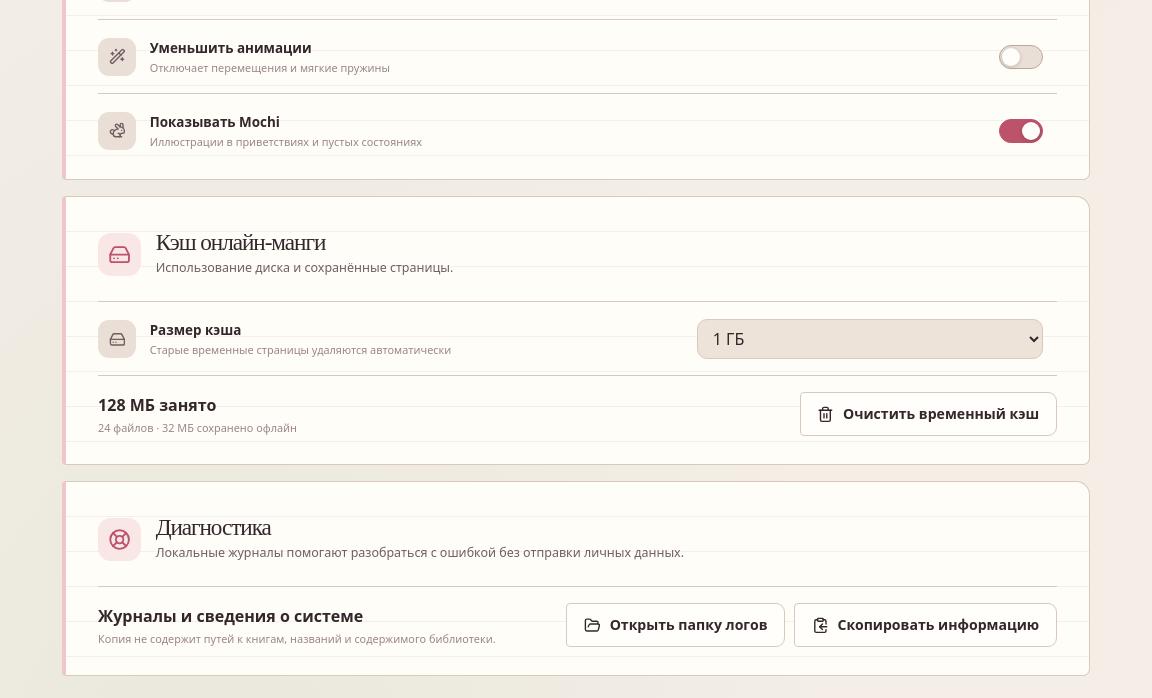
Test: settings page › configures the disk cache and clears only transient pages by default
(page scrolled)
Expected: the text "128 МБ занято" is shown, x1=98 y1=394 x2=216 y2=416
Select "2 ГБ" in the dropdown labelled "Размер кэша": (870, 339) x1=697 y1=319 x2=1043 y2=359
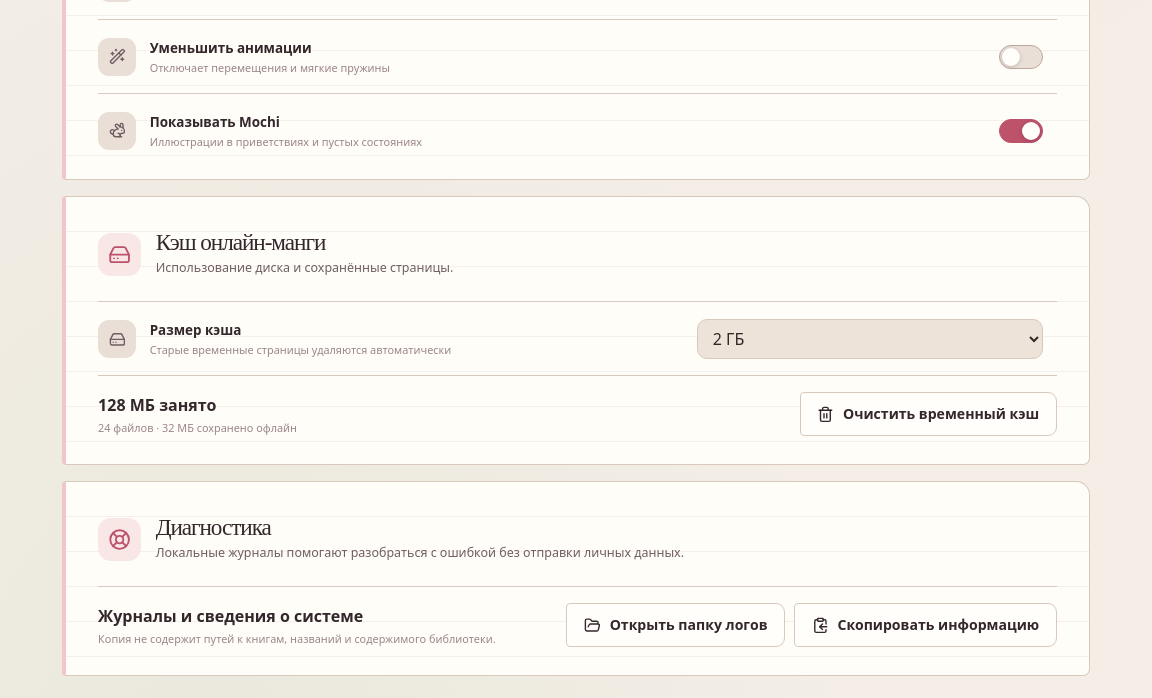
Click the button "Очистить временный кэш": (928, 414) x1=800 y1=392 x2=1057 y2=436
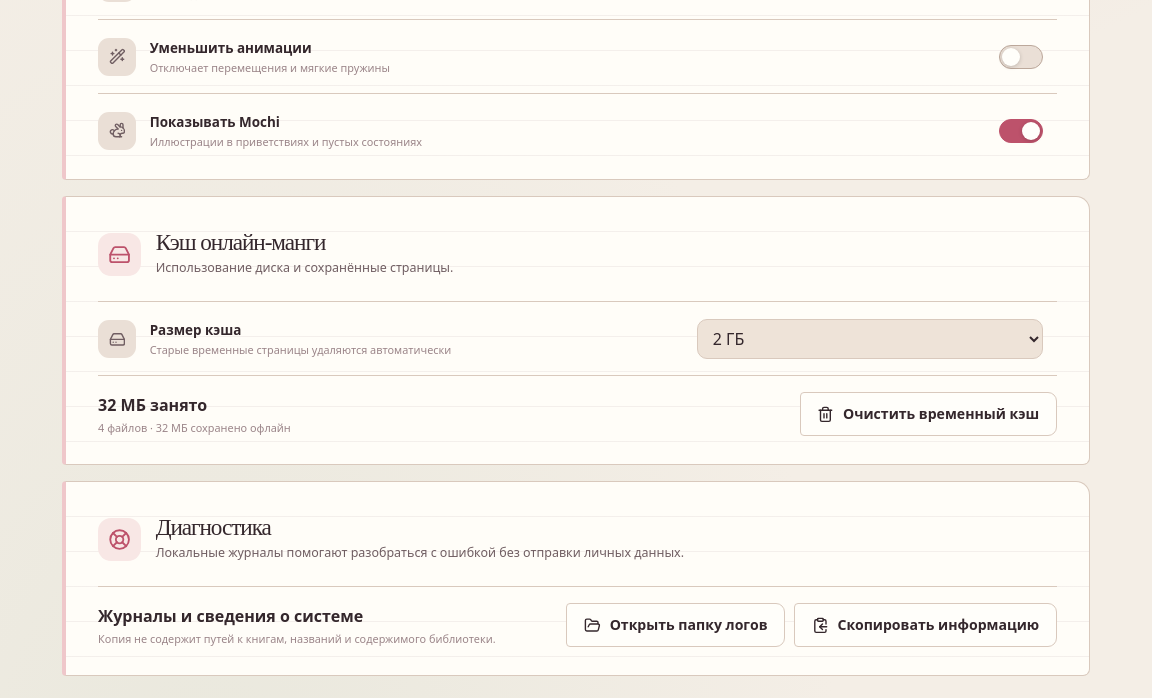
Now the text "32 МБ занято" is shown, box x1=98 y1=394 x2=207 y2=416
